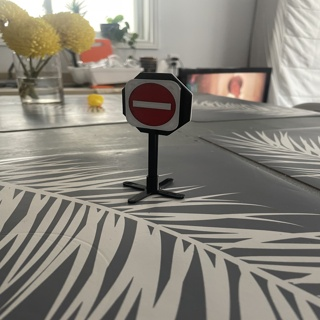sign_noentry: (122, 78, 177, 129)
